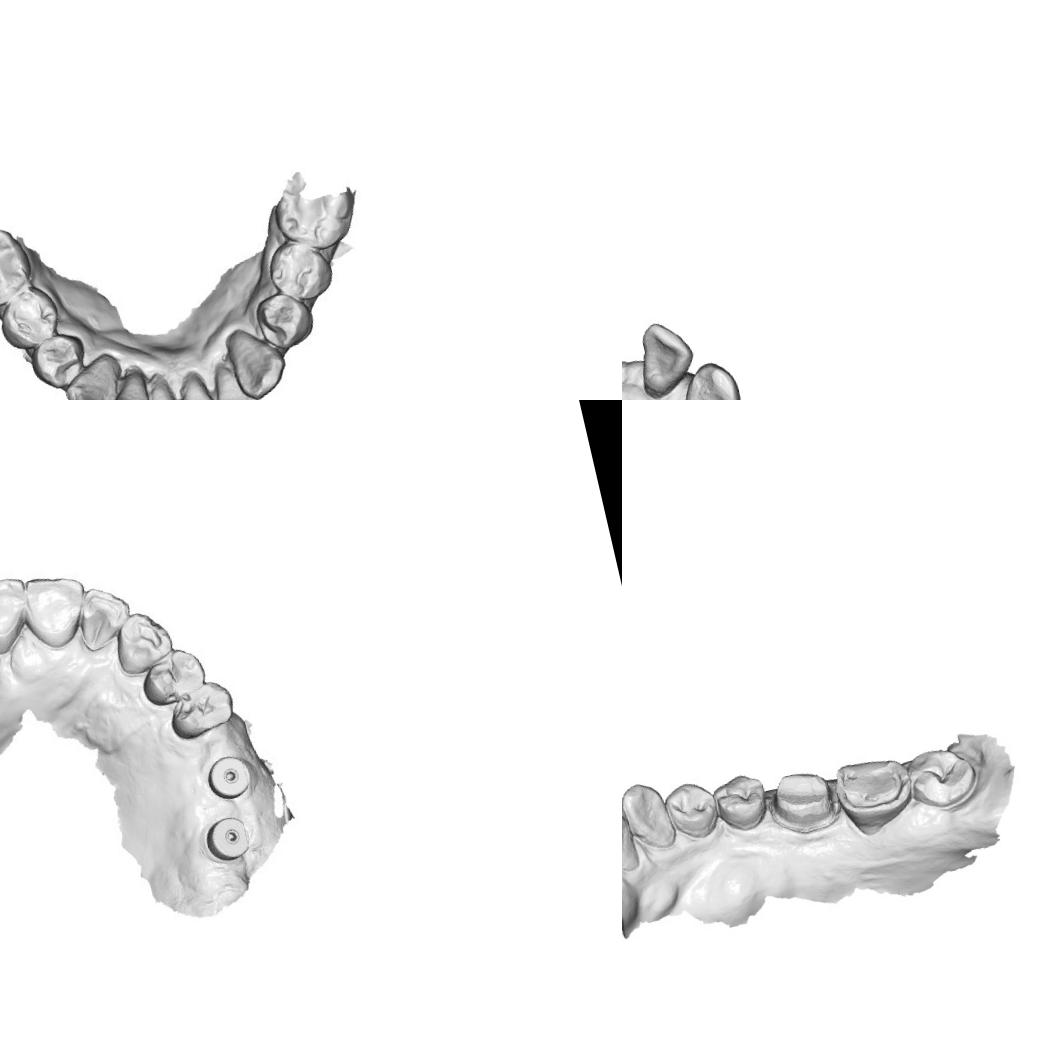canine: (223, 322, 294, 400), (105, 607, 176, 678), (622, 775, 678, 857), (670, 355, 749, 400), (58, 353, 127, 400)
crown: (762, 762, 844, 842)
implant: (200, 808, 256, 870), (198, 745, 256, 804)
incisor: (14, 570, 93, 654), (628, 315, 701, 400), (74, 584, 134, 652), (0, 570, 39, 657), (207, 357, 265, 400), (103, 366, 155, 400), (170, 368, 221, 400), (132, 374, 189, 400), (622, 802, 641, 879)
molar: (828, 750, 921, 842), (270, 168, 356, 248), (902, 740, 982, 819), (0, 228, 35, 316)
premolar: (263, 233, 334, 308), (24, 324, 93, 396), (248, 286, 316, 355), (707, 768, 774, 838), (0, 279, 63, 351), (138, 645, 206, 710), (660, 776, 724, 844), (167, 681, 235, 739)
